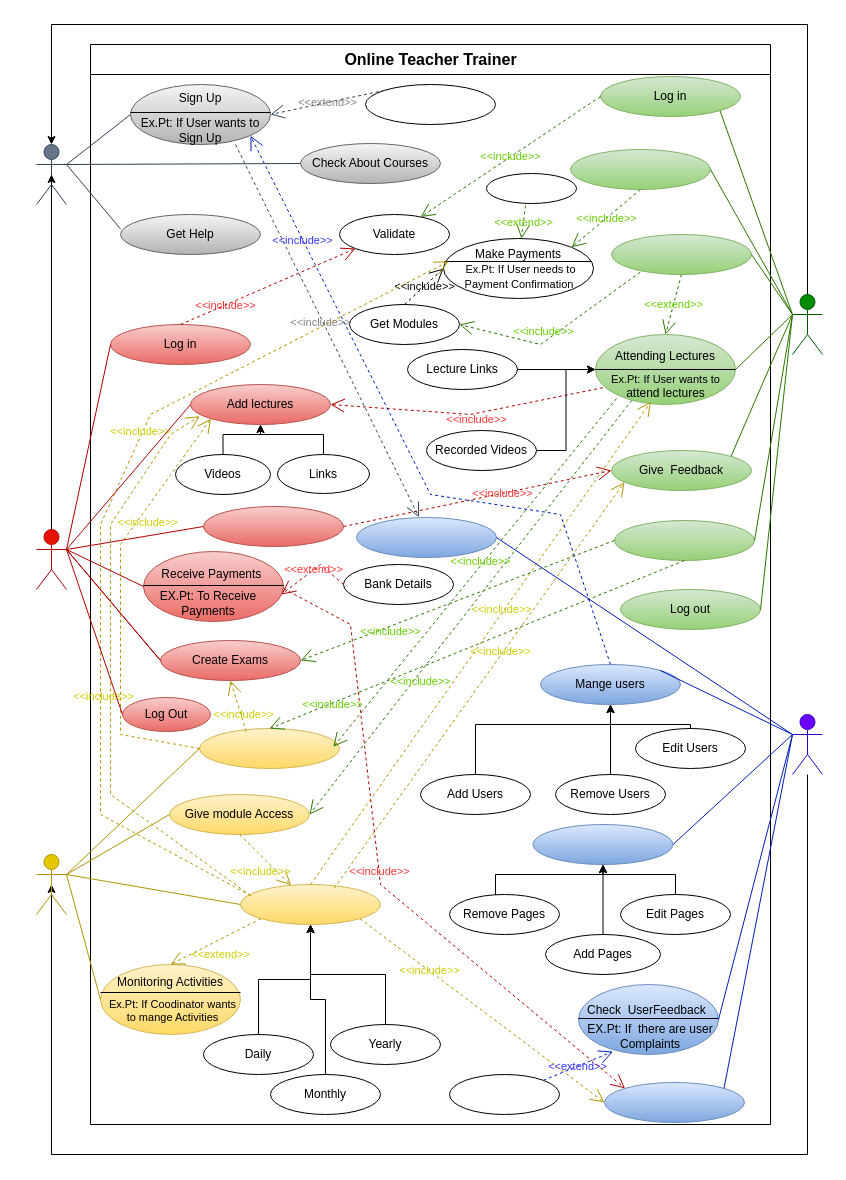
The diagram is 846 pixels wide and 1180 high, and some of its shapes have lost their labels. The shapes that lost their labels are listed below. From the top down, each one's centre as x and y in pixels, then its label:
At point (430, 104): "Get Email".
At point (51, 174): "Unregistered User".
At point (531, 188): "Receipt".
At point (640, 169): "Select Course".
At point (681, 254): "Enroll module".
At point (807, 324): "Trainee Teacher".
At point (273, 526): "Check Feedback".
At point (426, 537): "Create terms & conditions".
At point (684, 540): "Attending Exams".
At point (51, 559): "Lecturer".
At point (269, 748): "Create Time Table".
At point (807, 744): "Admin".
At point (602, 844): "Manage Pages".
At point (51, 884): "Coodinator".
At point (310, 904): "Generate Reports".
At point (504, 1094): "Take Action".
At point (674, 1102): "Handle Payment".
